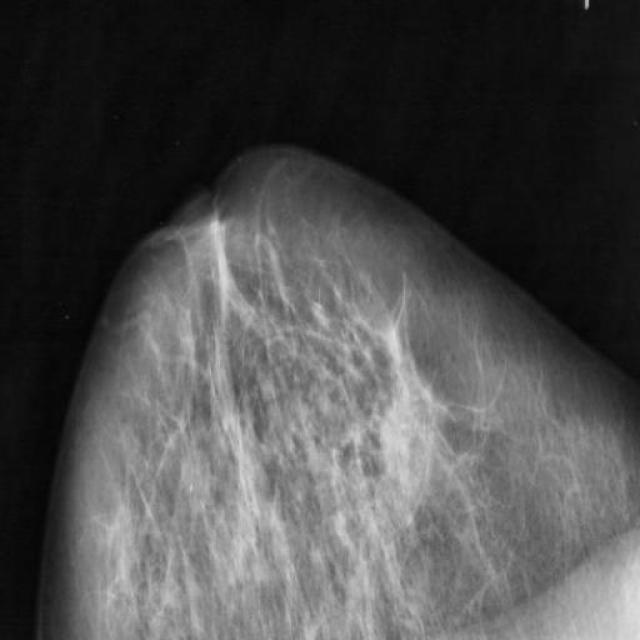cancer: (368, 288, 417, 377)
